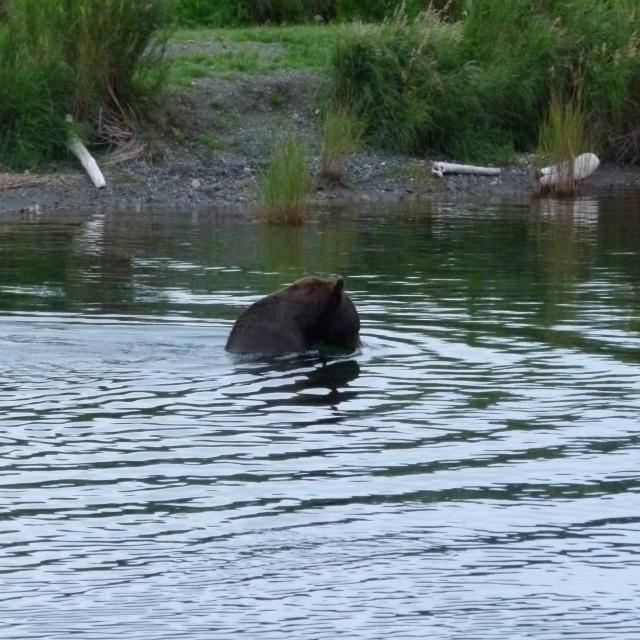bear face: (228, 273, 362, 347)
